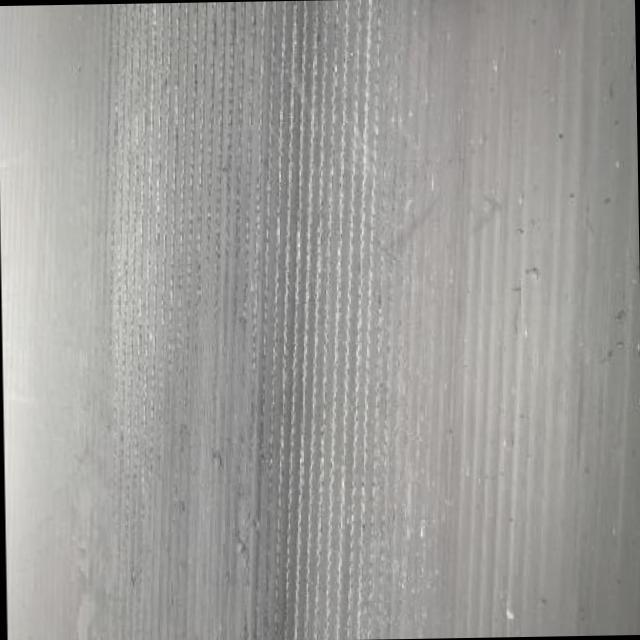Wear: (80, 0, 418, 640)
